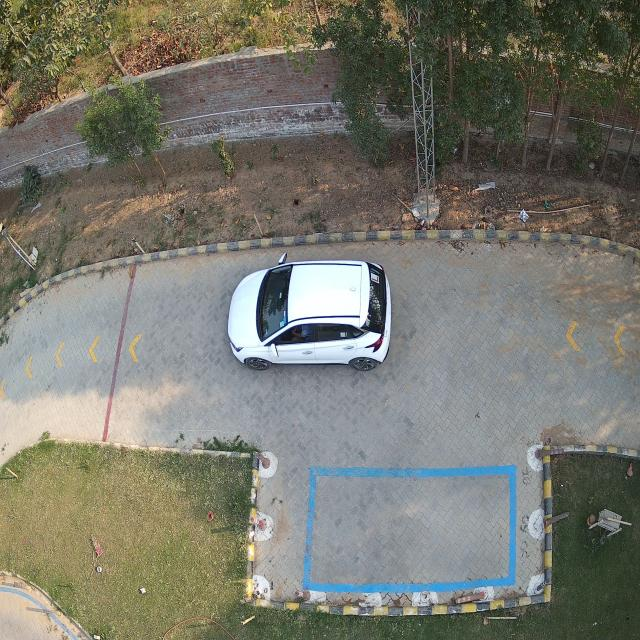car: (226, 259, 392, 372)
